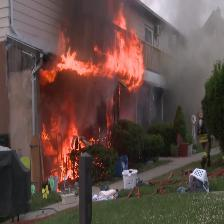fire: (40, 0, 144, 193)
smoke: (153, 0, 224, 135)
